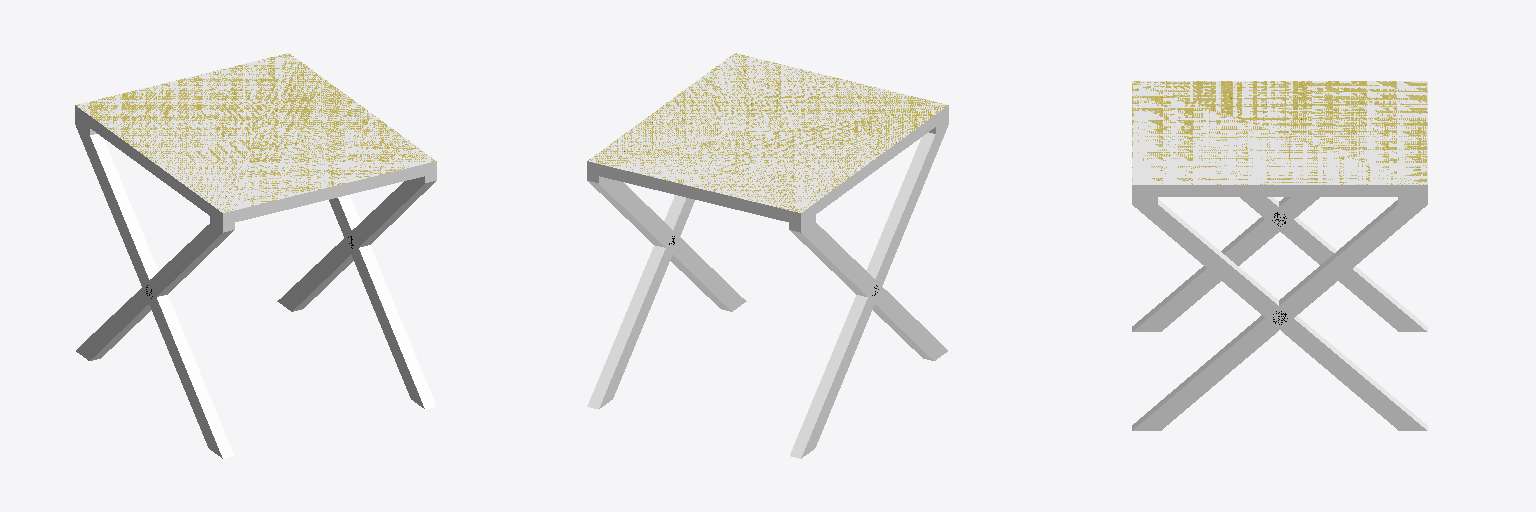
The picture shows the model from 3 angles: view 1: azimuth 30°, elevation 25°; view 2: azimuth 150°, elevation 25°; view 3: azimuth 270°, elevation 25°; orthographic projection.
Visible parts, largest first — view 1: mesh1_mesh1-geometry; view 2: mesh1_mesh1-geometry; view 3: mesh1_mesh1-geometry.
Part boxes in pixels (bbox=[...]): mesh1_mesh1-geometry: bbox=[75, 53, 436, 458]; mesh1_mesh1-geometry: bbox=[587, 53, 948, 458]; mesh1_mesh1-geometry: bbox=[1132, 81, 1427, 430].
Size of the model in its own units: 0.5242 by 0.5755 by 0.6276.
4 materials, 1 textured.